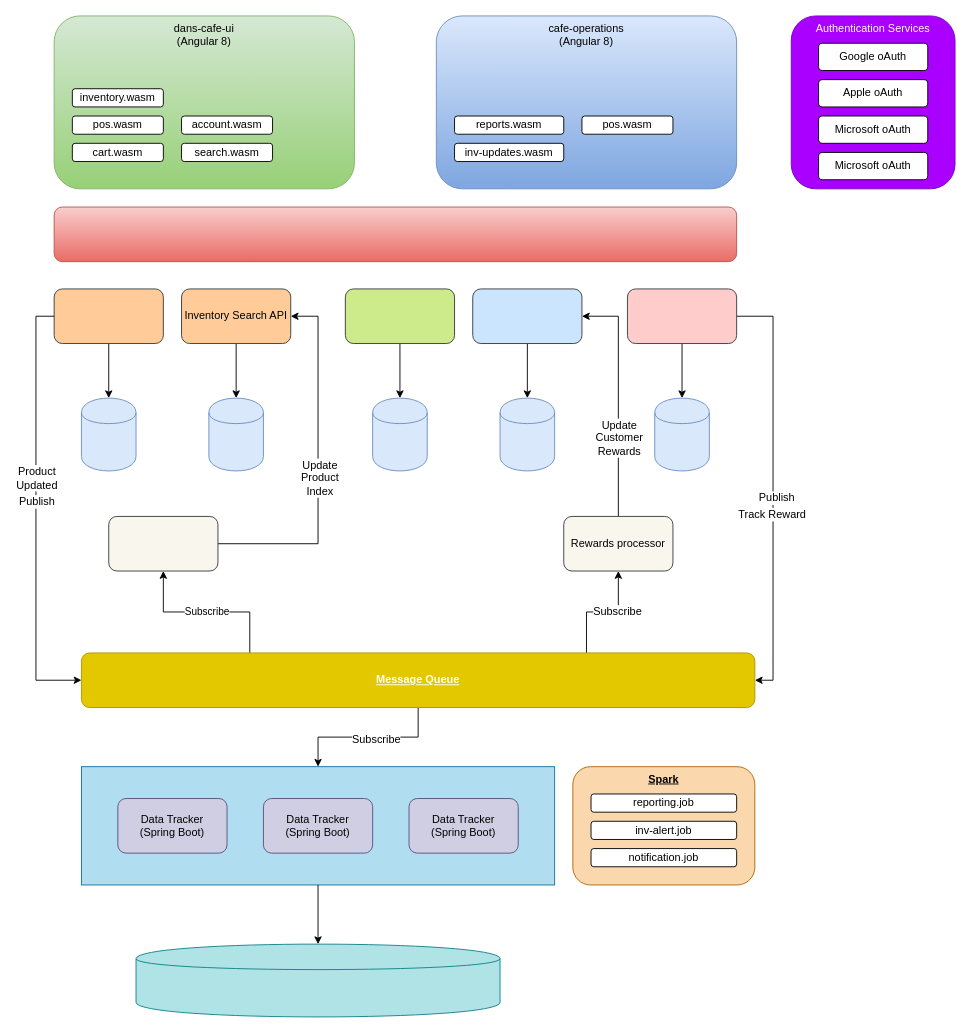
The diagram is 971 pixels wide and 1033 high, and some of its shapes have lost their labels. Here are the shapes that lost their labels. From the top down, the centre of each, then its label:
At [395,234]: "Cafe Gateway (Spring Boot)".
At [108,316]: "Inventory API (Spring Boot)".
At [399,316]: "Customer API (Spring Boot)".
At [527,316]: "Rewards Service (Spring Boot)".
At [682,316]: "Purchases API (Spring Boot)".
At [163,543]: "Inventory Indexer".
At [317,980]: "Datalake".
